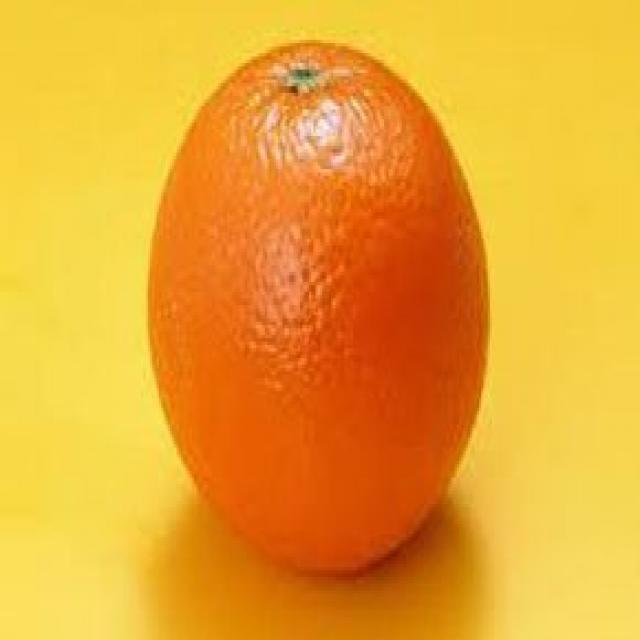Orange: (143, 37, 491, 578)
